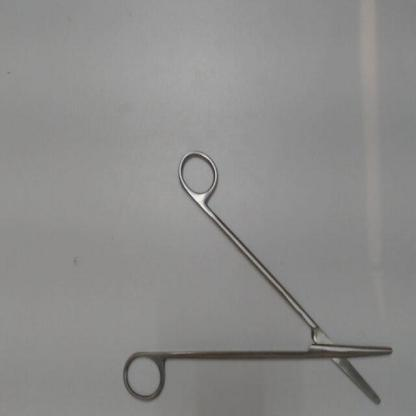9 Metzenbaum Scissors: (121, 140, 394, 412)
